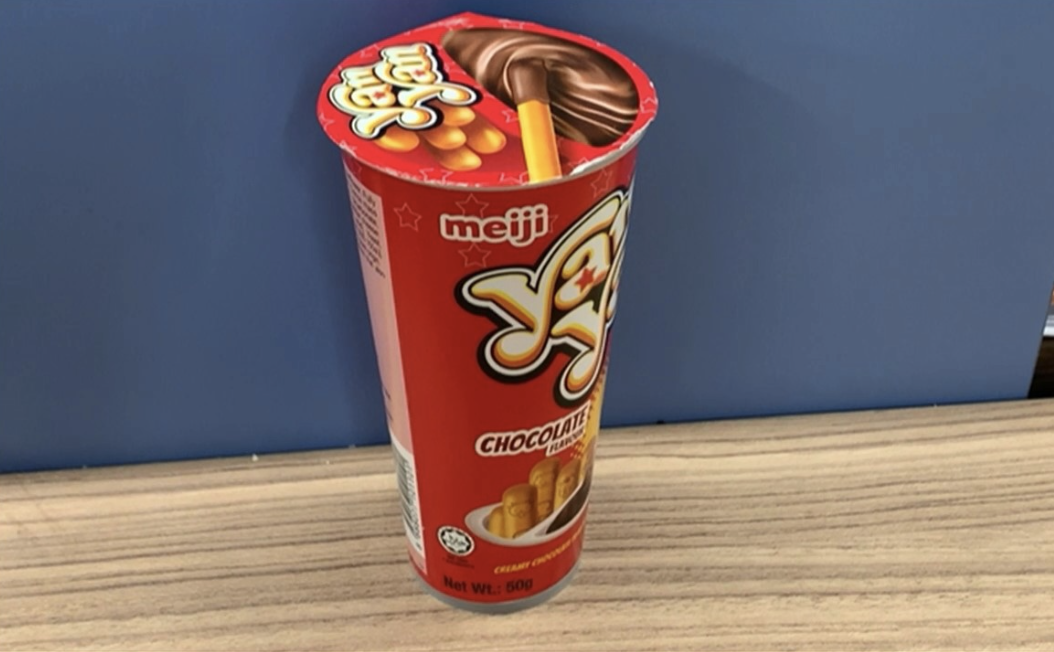crackers_1g-99g: (404, 202, 563, 598)
